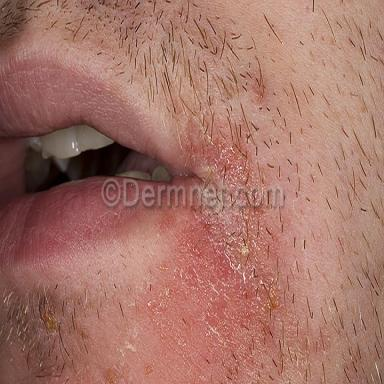Impetigo: (105, 209, 311, 384), (181, 129, 259, 184), (42, 305, 57, 332)
